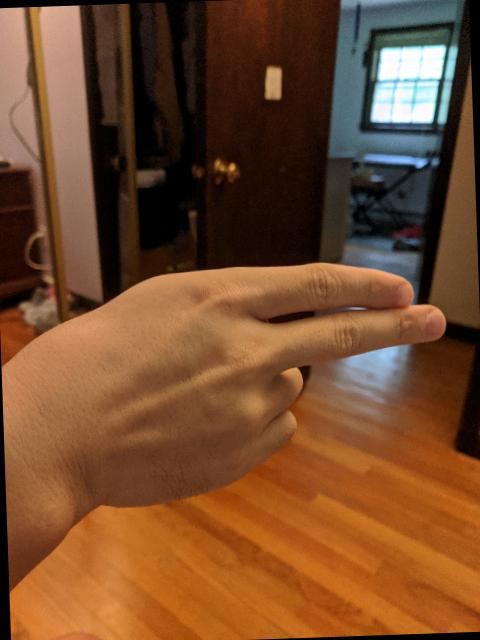H: (40, 251, 461, 516)
